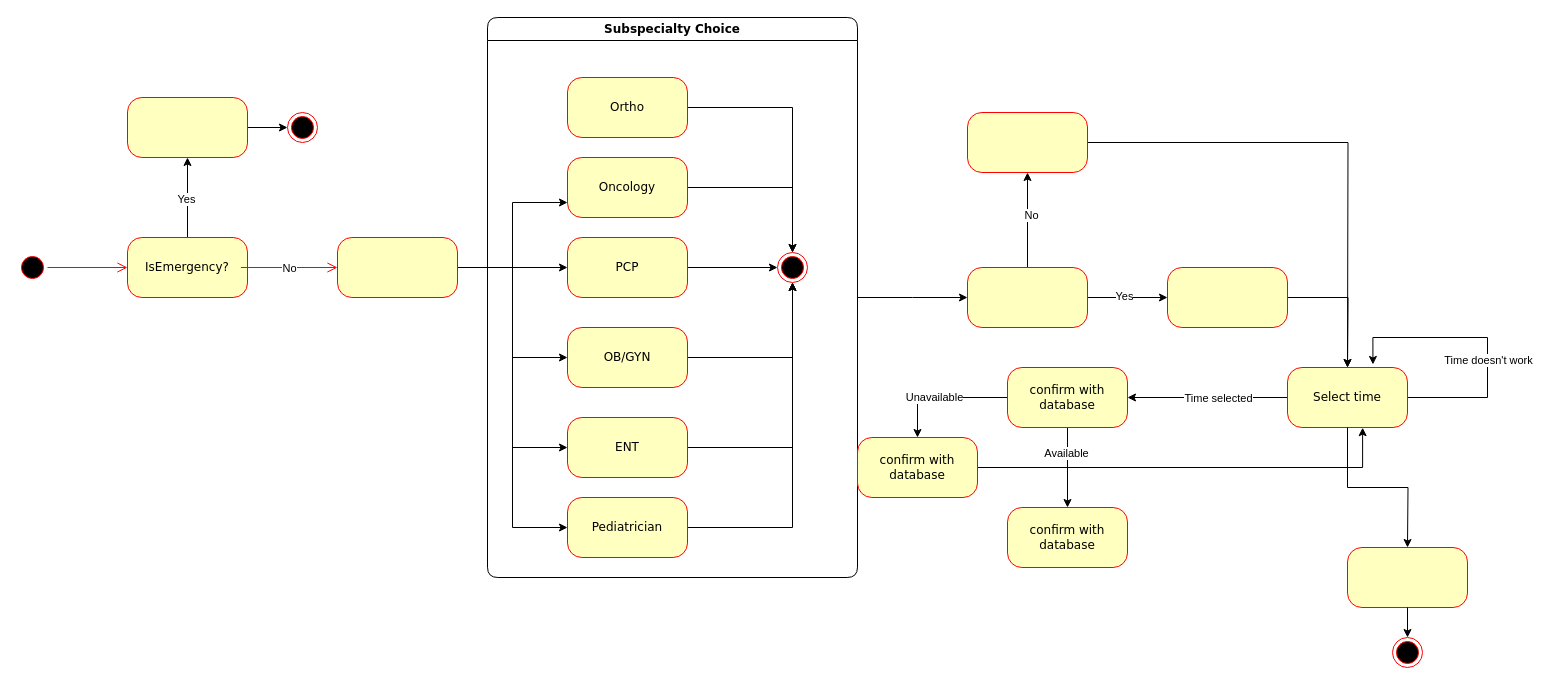
This 1550x685 diagram has some shape labels left out. Here are the shapes that lost their labels. From the top down, the centre of each, then its label:
(x=187, y=127): Error: Stop form
(x=1027, y=142): fullSearchScope
(x=397, y=267): Determine SubSpectialy
(x=1027, y=297): isPriority?
(x=1227, y=297): priorityStatus()
(x=1407, y=577): Book appointment
